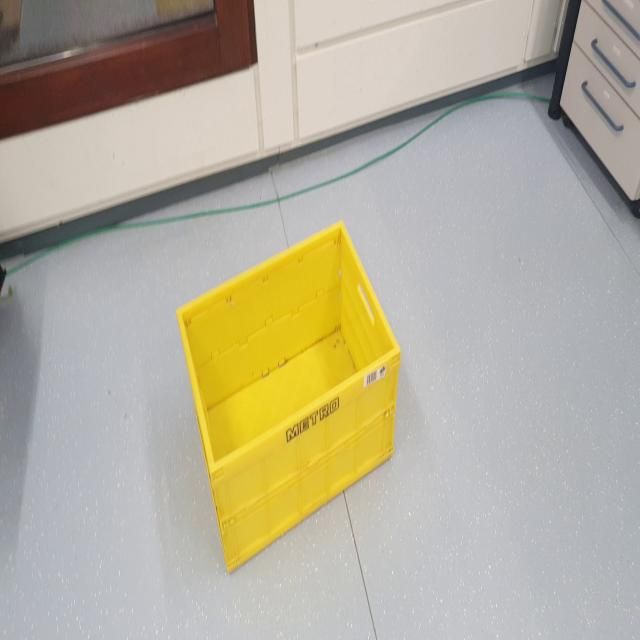box: (169, 212, 402, 578)
